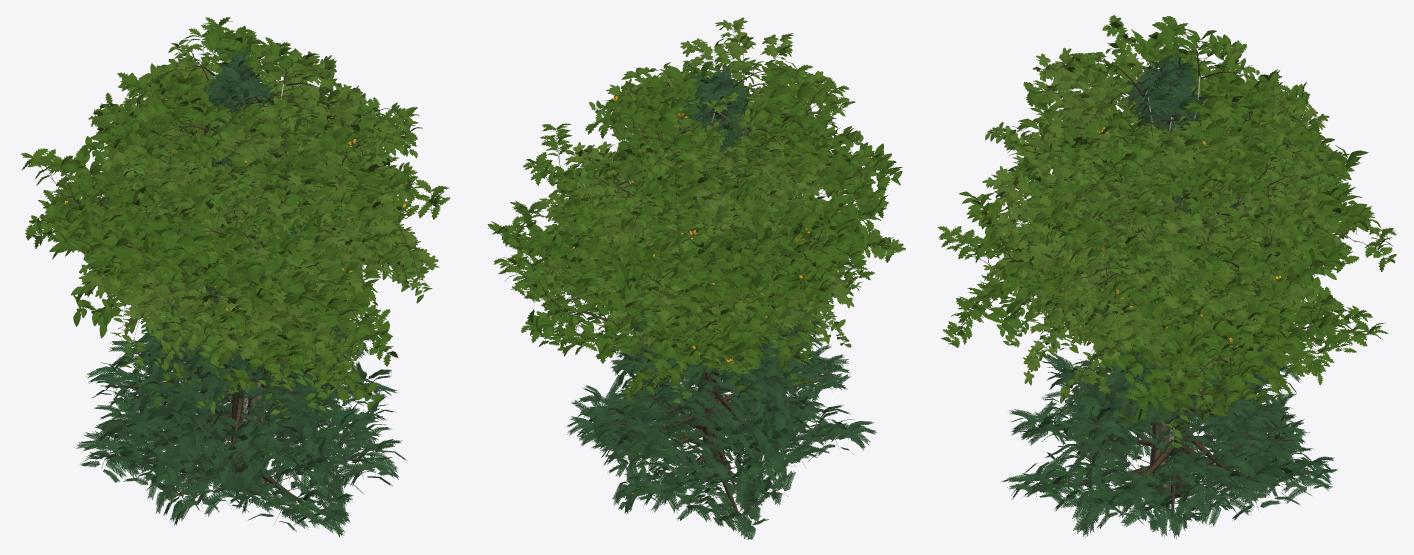
Rendered from botanical-trees.glb.
3 views of the same model, side by side, from view 1: azimuth 30°, elevation 25°; view 2: azimuth 150°, elevation 25°; view 3: azimuth 270°, elevation 25° (orthographic). The views are drawn at different scales.
Parts seen in each view (by area): view 1: botanical-spruce-LOD0, botanical-oak-LOD0, botanical-plane-LOD0, botanical-ipe-LOD0, botanical-birch-LOD0; view 2: botanical-oak-LOD0, botanical-spruce-LOD0, botanical-ipe-LOD0, botanical-plane-LOD0, botanical-birch-LOD0; view 3: botanical-oak-LOD0, botanical-spruce-LOD0, botanical-plane-LOD0, botanical-ipe-LOD0, botanical-birch-LOD0.
Part boxes in pixels (left/top/right/bottom): botanical-spruce-LOD0: left=74, top=48, right=407, bottom=537; botanical-oak-LOD0: left=21, top=17, right=449, bottom=408; botanical-plane-LOD0: left=78, top=45, right=438, bottom=495; botanical-ipe-LOD0: left=45, top=23, right=429, bottom=491; botanical-birch-LOD0: left=82, top=39, right=432, bottom=462; botanical-oak-LOD0: left=487, top=61, right=905, bottom=482; botanical-spruce-LOD0: left=566, top=64, right=876, bottom=539; botanical-ipe-LOD0: left=515, top=61, right=902, bottom=482; botanical-plane-LOD0: left=534, top=17, right=898, bottom=470; botanical-birch-LOD0: left=530, top=57, right=875, bottom=403; botanical-oak-LOD0: left=937, top=15, right=1396, bottom=498; botanical-spruce-LOD0: left=1001, top=52, right=1337, bottom=539; botanical-plane-LOD0: left=982, top=47, right=1355, bottom=498; botanical-ipe-LOD0: left=959, top=26, right=1376, bottom=415; botanical-birch-LOD0: left=985, top=40, right=1351, bottom=481.
Size of what is drawn, in the model's own units: 0.9957 by 1 by 0.9641.
2 materials, 2 textured.
